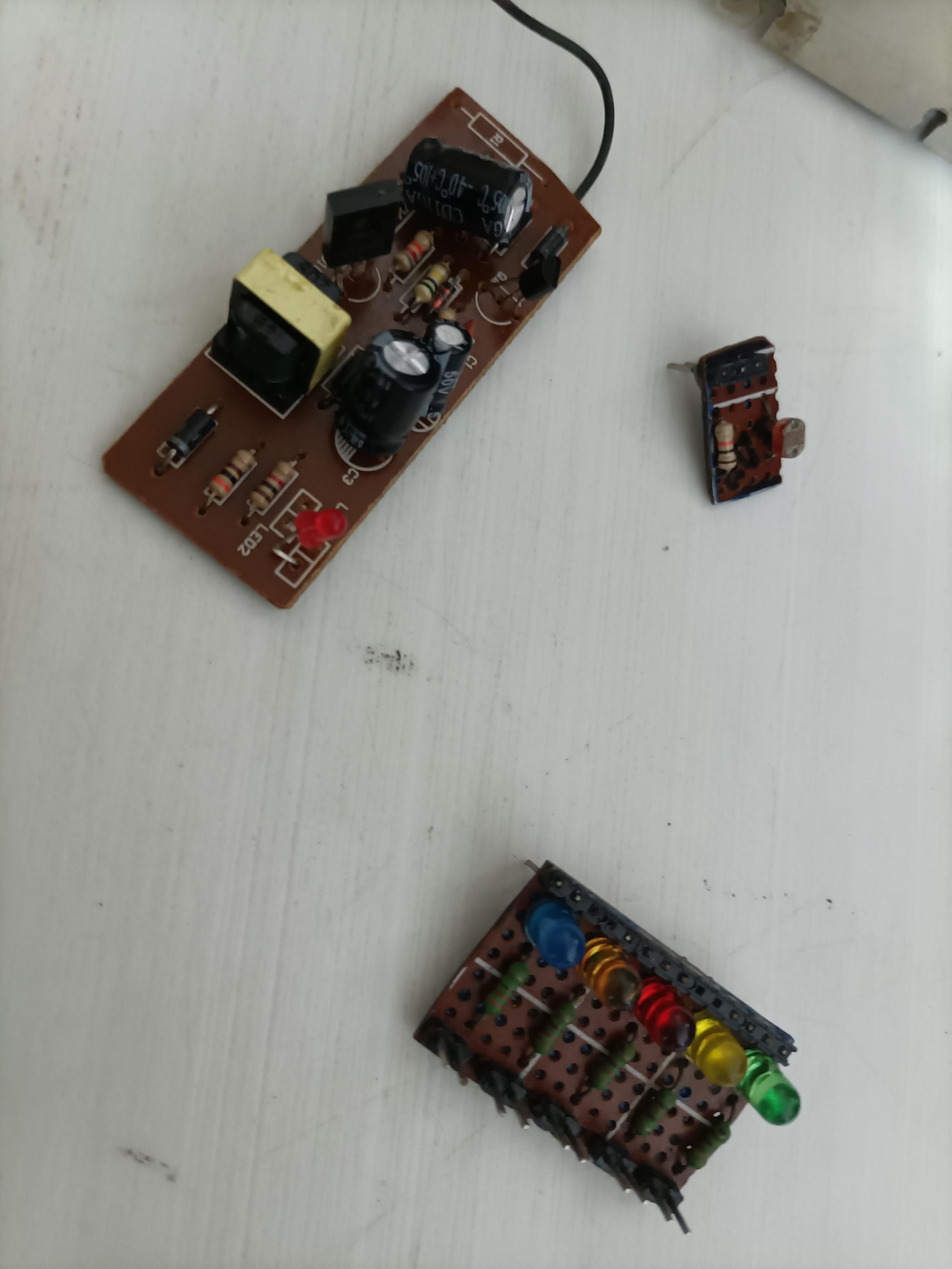LED: (637, 972, 696, 1057), (749, 1047, 802, 1137), (686, 1018, 744, 1092), (538, 897, 585, 976), (583, 928, 631, 1003), (294, 511, 348, 550)
Resistencia: (187, 501, 282, 535), (374, 270, 455, 296), (623, 1128, 692, 1158), (713, 418, 745, 480), (517, 954, 543, 1027), (577, 1081, 644, 1109), (524, 1053, 603, 1074), (403, 295, 466, 321), (681, 1157, 742, 1183)
